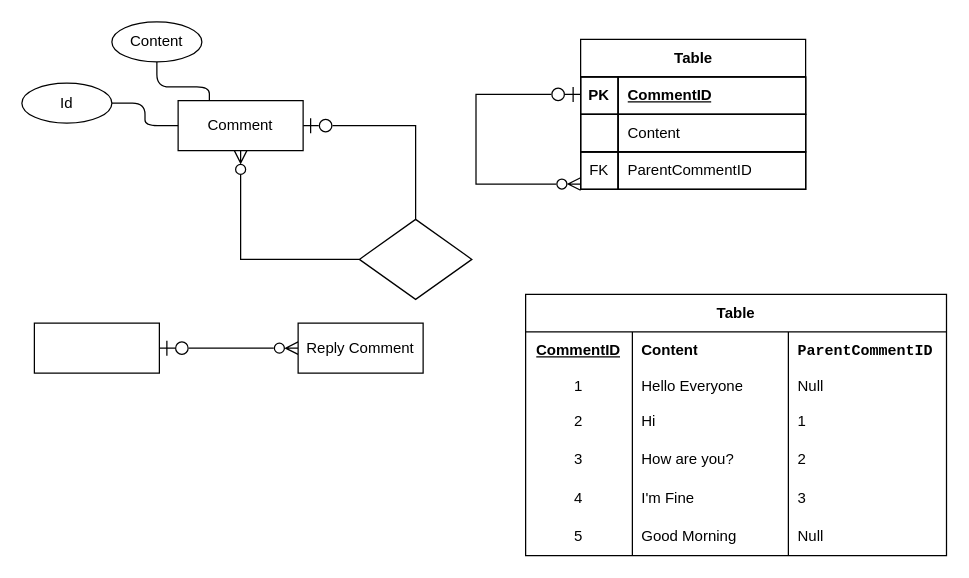
Some shapes in this 969 by 578 pixel diagram are drawn without their labels. Here are the shapes that lost their labels. From the top down, the centre of each, then its label:
the point at 415,258: HasReplies
the point at 96,347: Parent Comment
